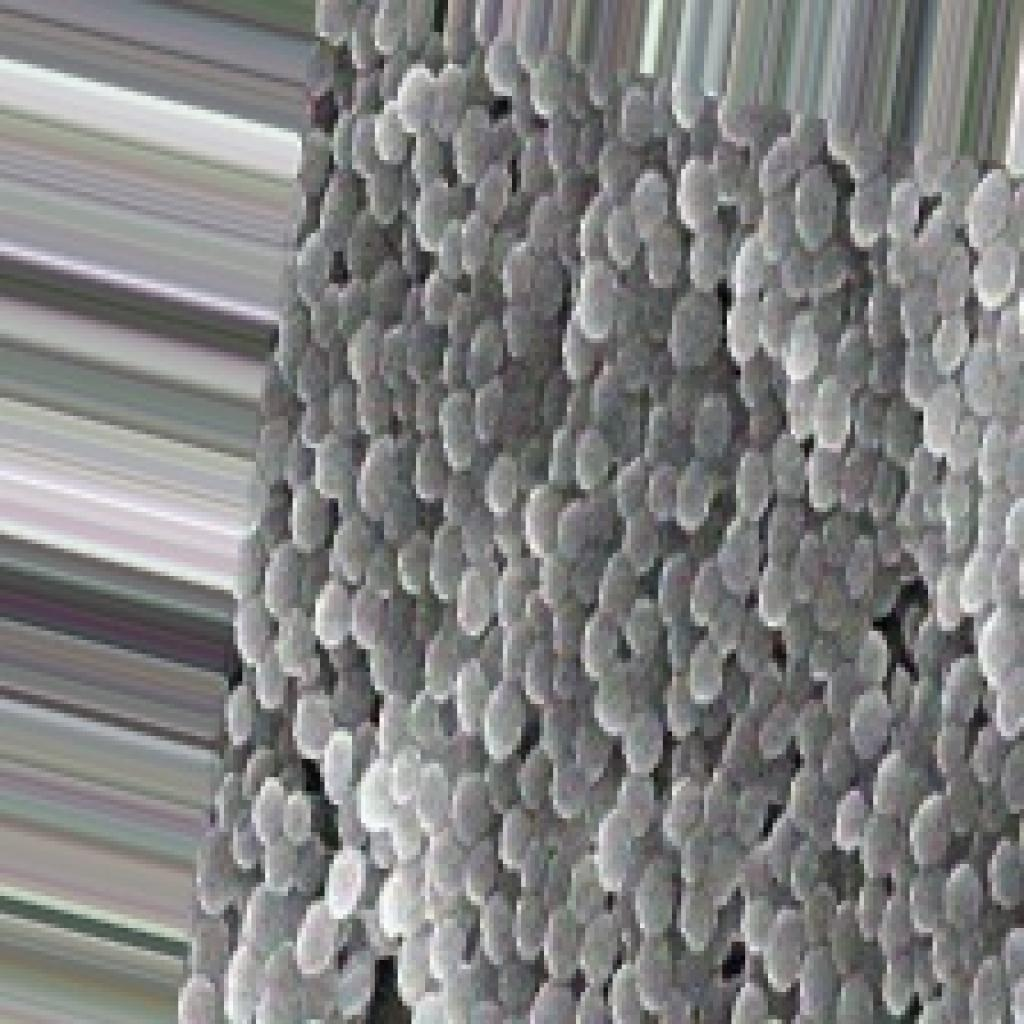Sphericalbacteria: (164, 0, 1019, 1019)
